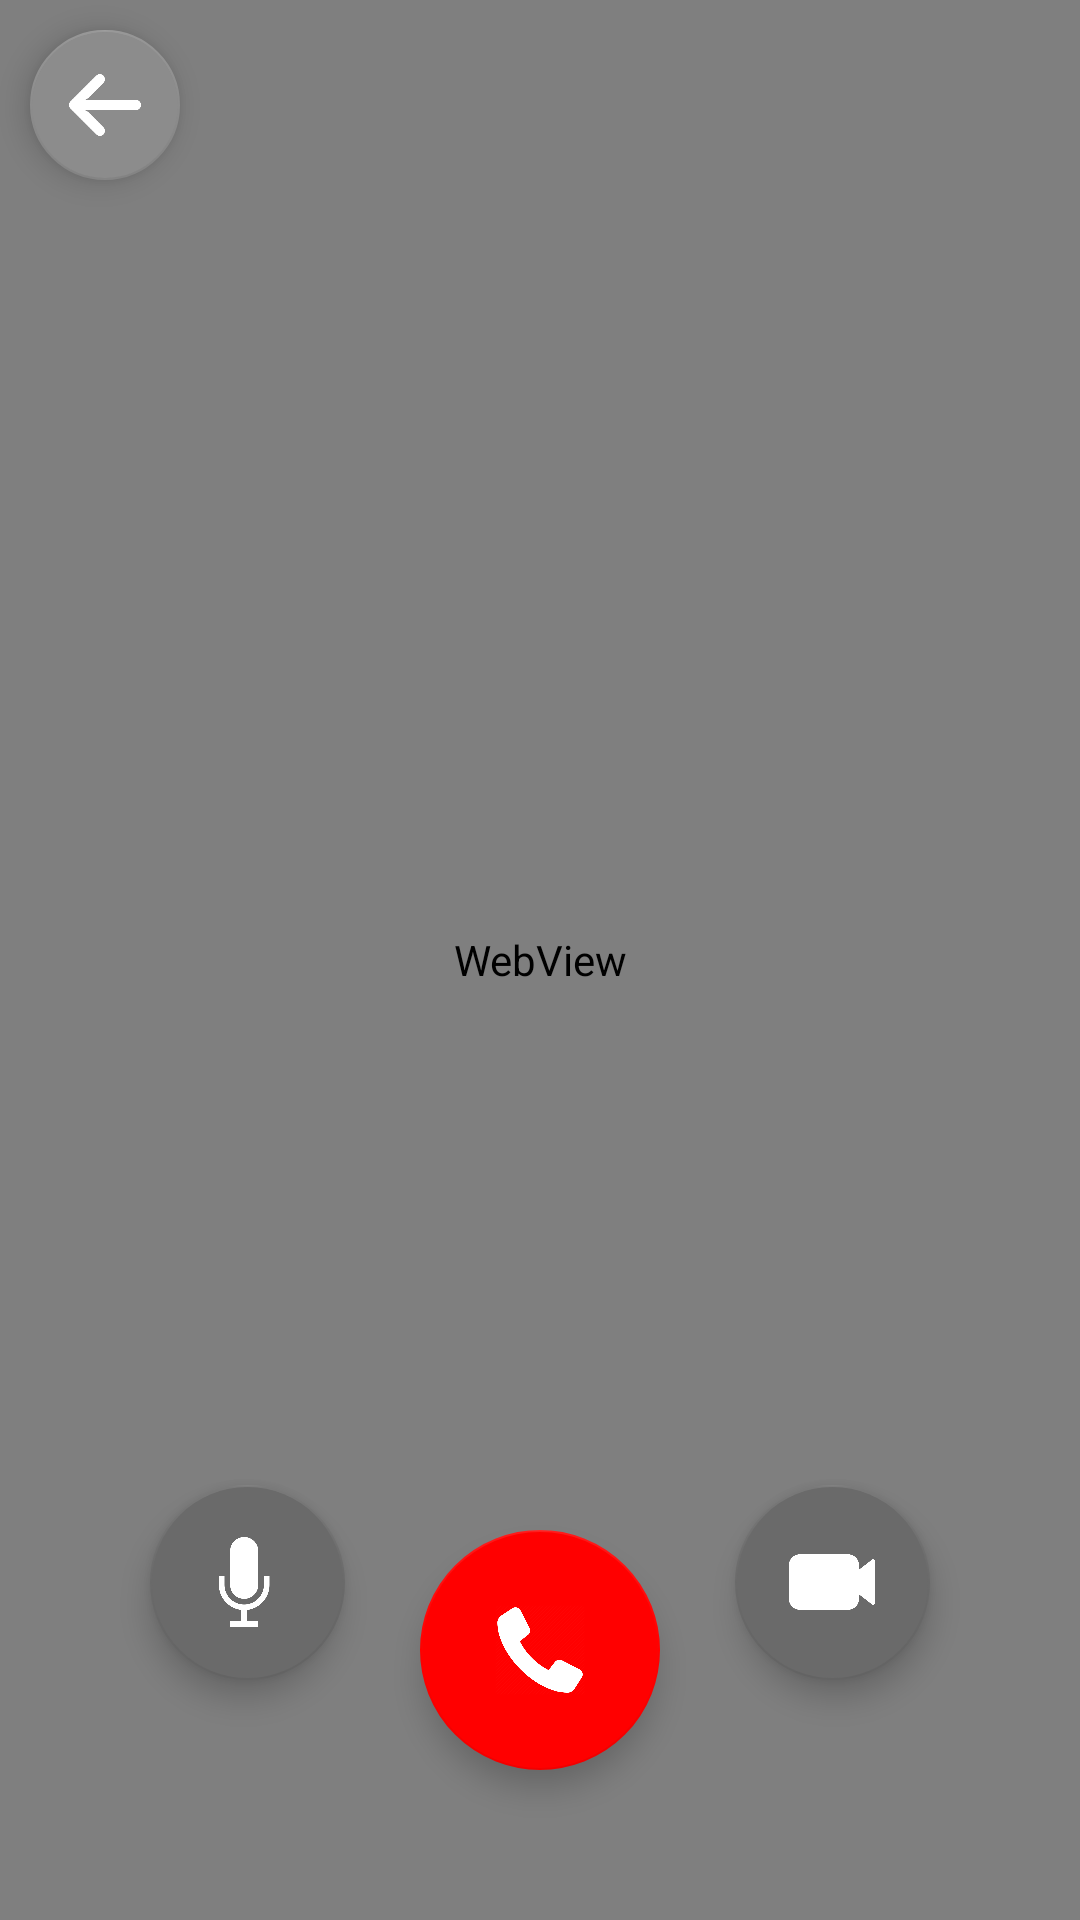

Icon click points for this 1080px×1920px phone screenshot, format [x,y]:
arrow: [105,105]
mic: [247,1583]
phone call: [540,1650]
video call: [832,1583]
